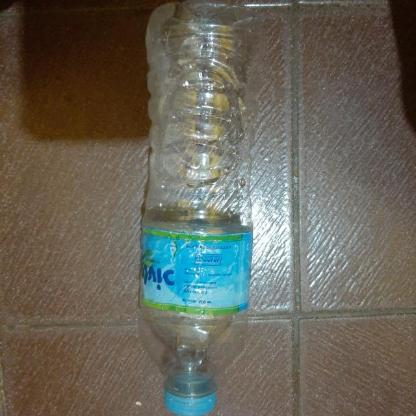Plastic Bottle: (137, 2, 261, 416)
